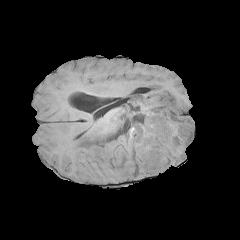glioma: (65, 75, 193, 179)
